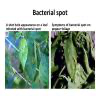Bell_pepper leaf spot: (63, 35, 77, 83), (25, 43, 38, 81)
